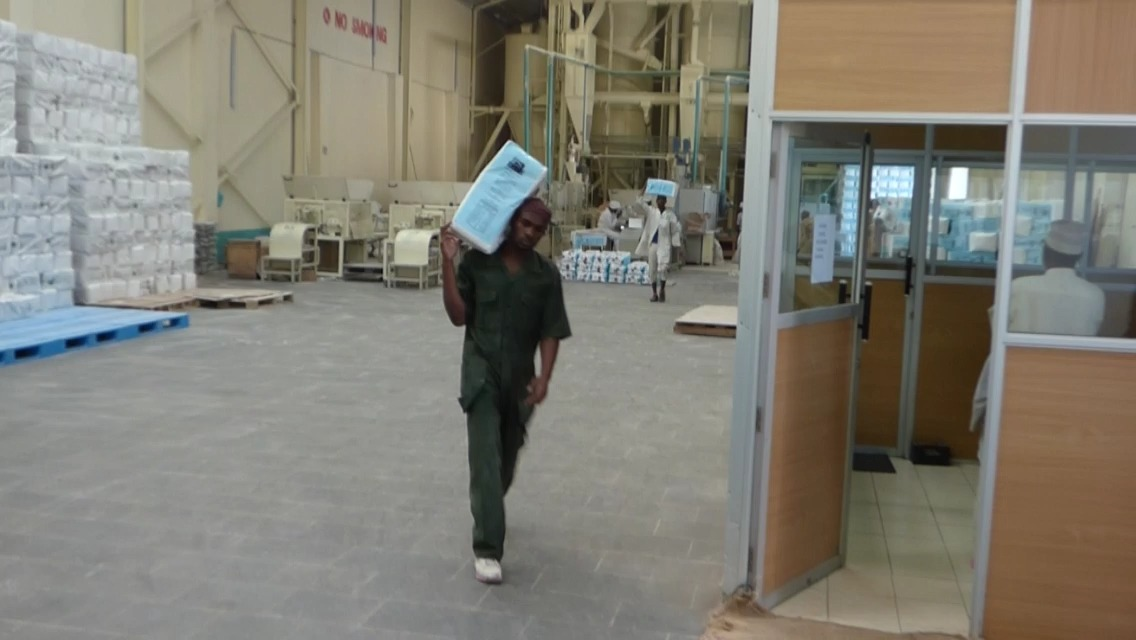wheat_flour_blue_label: (444, 146, 544, 242)
